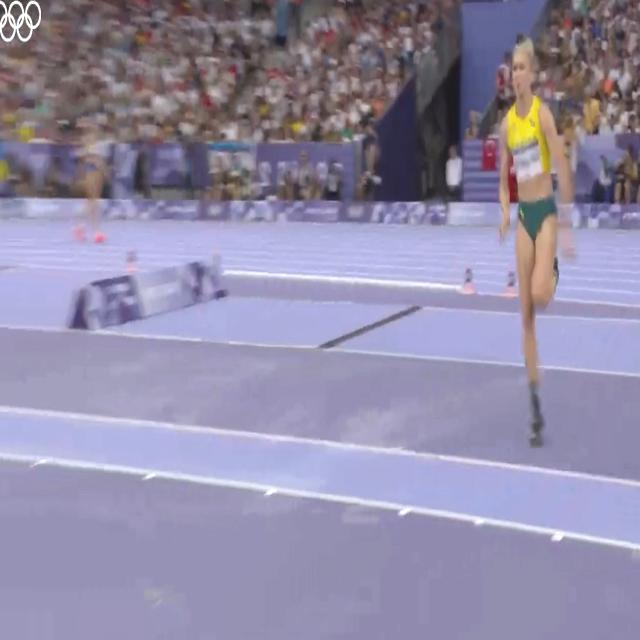run: (495, 38, 575, 448)
